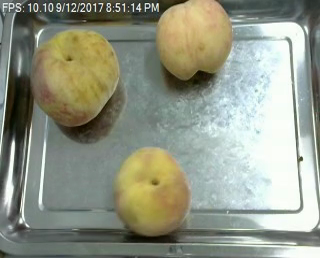Peach: (30, 29, 121, 125), (114, 147, 190, 236), (157, 0, 233, 81)
